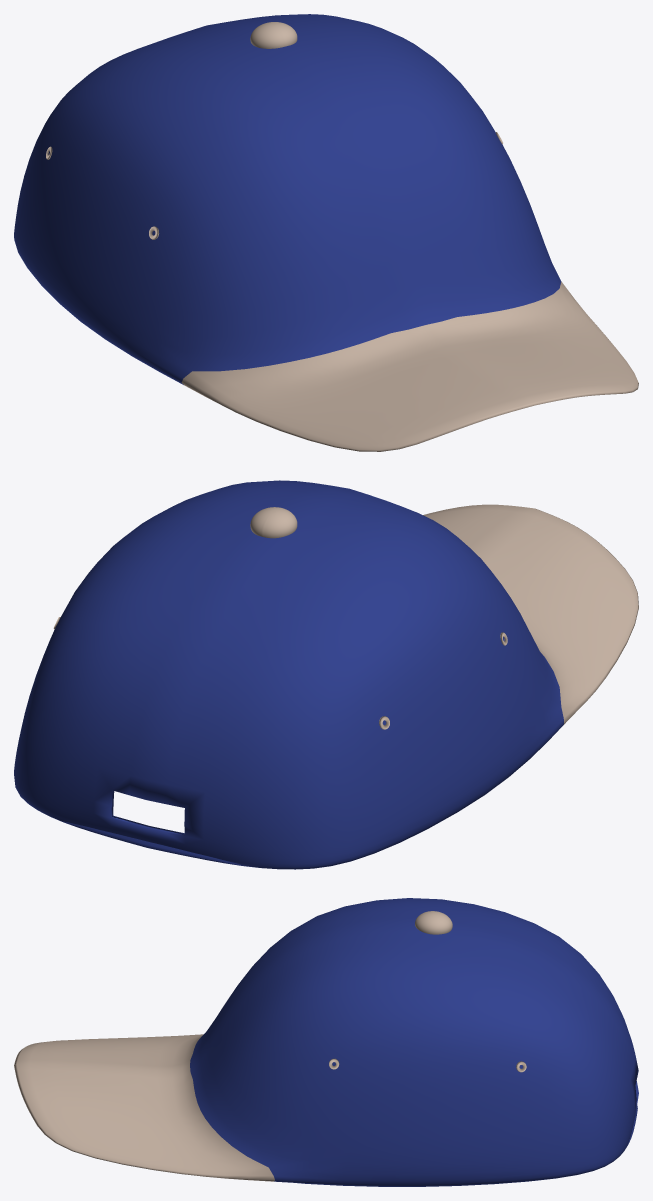
File: casquette.dae
3 renders of one model, top to bottom at view 1: azimuth 30°, elevation 25°; view 2: azimuth 150°, elevation 25°; view 3: azimuth 270°, elevation 25°, orthographic. The views are drawn at different scales.
Parts seen in each view (by area): view 1: casquette; view 2: casquette; view 3: casquette.
Boxes of the visible parts, x1,y1,x2,y2 form: casquette: [14, 14, 638, 451]; casquette: [14, 480, 638, 869]; casquette: [14, 898, 638, 1186].
Size of the model in its own units: 4.33 by 7.09 by 2.46.
